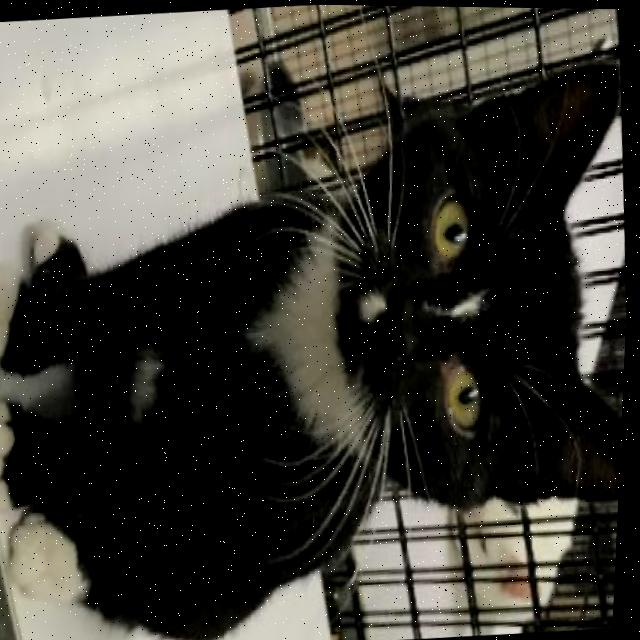Tuxedo: (0, 45, 638, 640)
